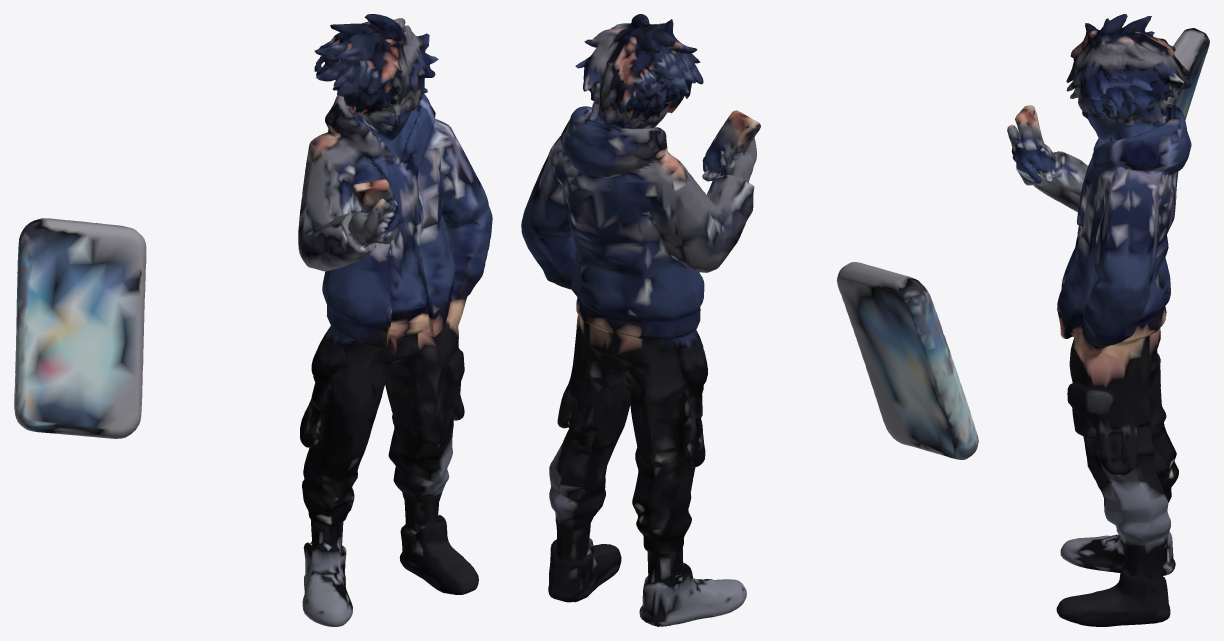
File: scroller.glb
3 views of the same model, side by side, from view 1: azimuth 30°, elevation 25°; view 2: azimuth 150°, elevation 25°; view 3: azimuth 270°, elevation 25° (orthographic).
Parts seen in each view (by area): view 1: scroller; view 2: scroller; view 3: scroller.
Part boxes in pixels (x1,y1,x2,y2): scroller: (14,14,492,626); scroller: (521,14,978,626); scroller: (1007,14,1209,626).
Size of the model in its own units: 1.54 by 1.85 by 0.5933.
